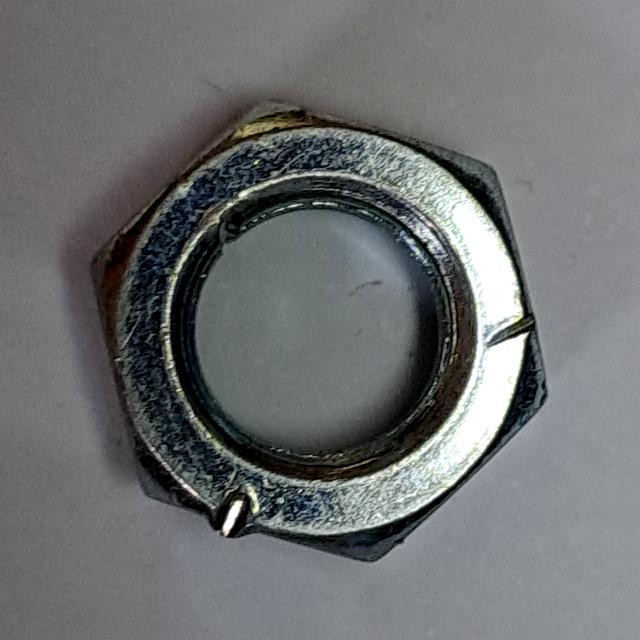Scratches: (66, 79, 570, 573)
